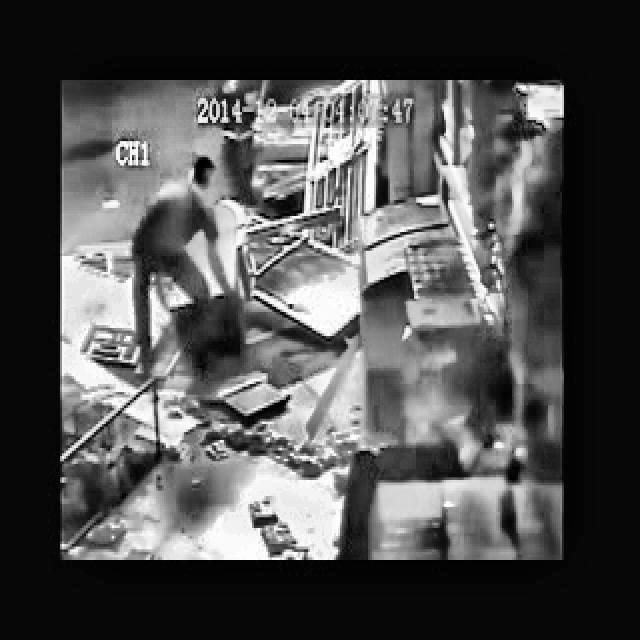burglary: (126, 80, 274, 384)
